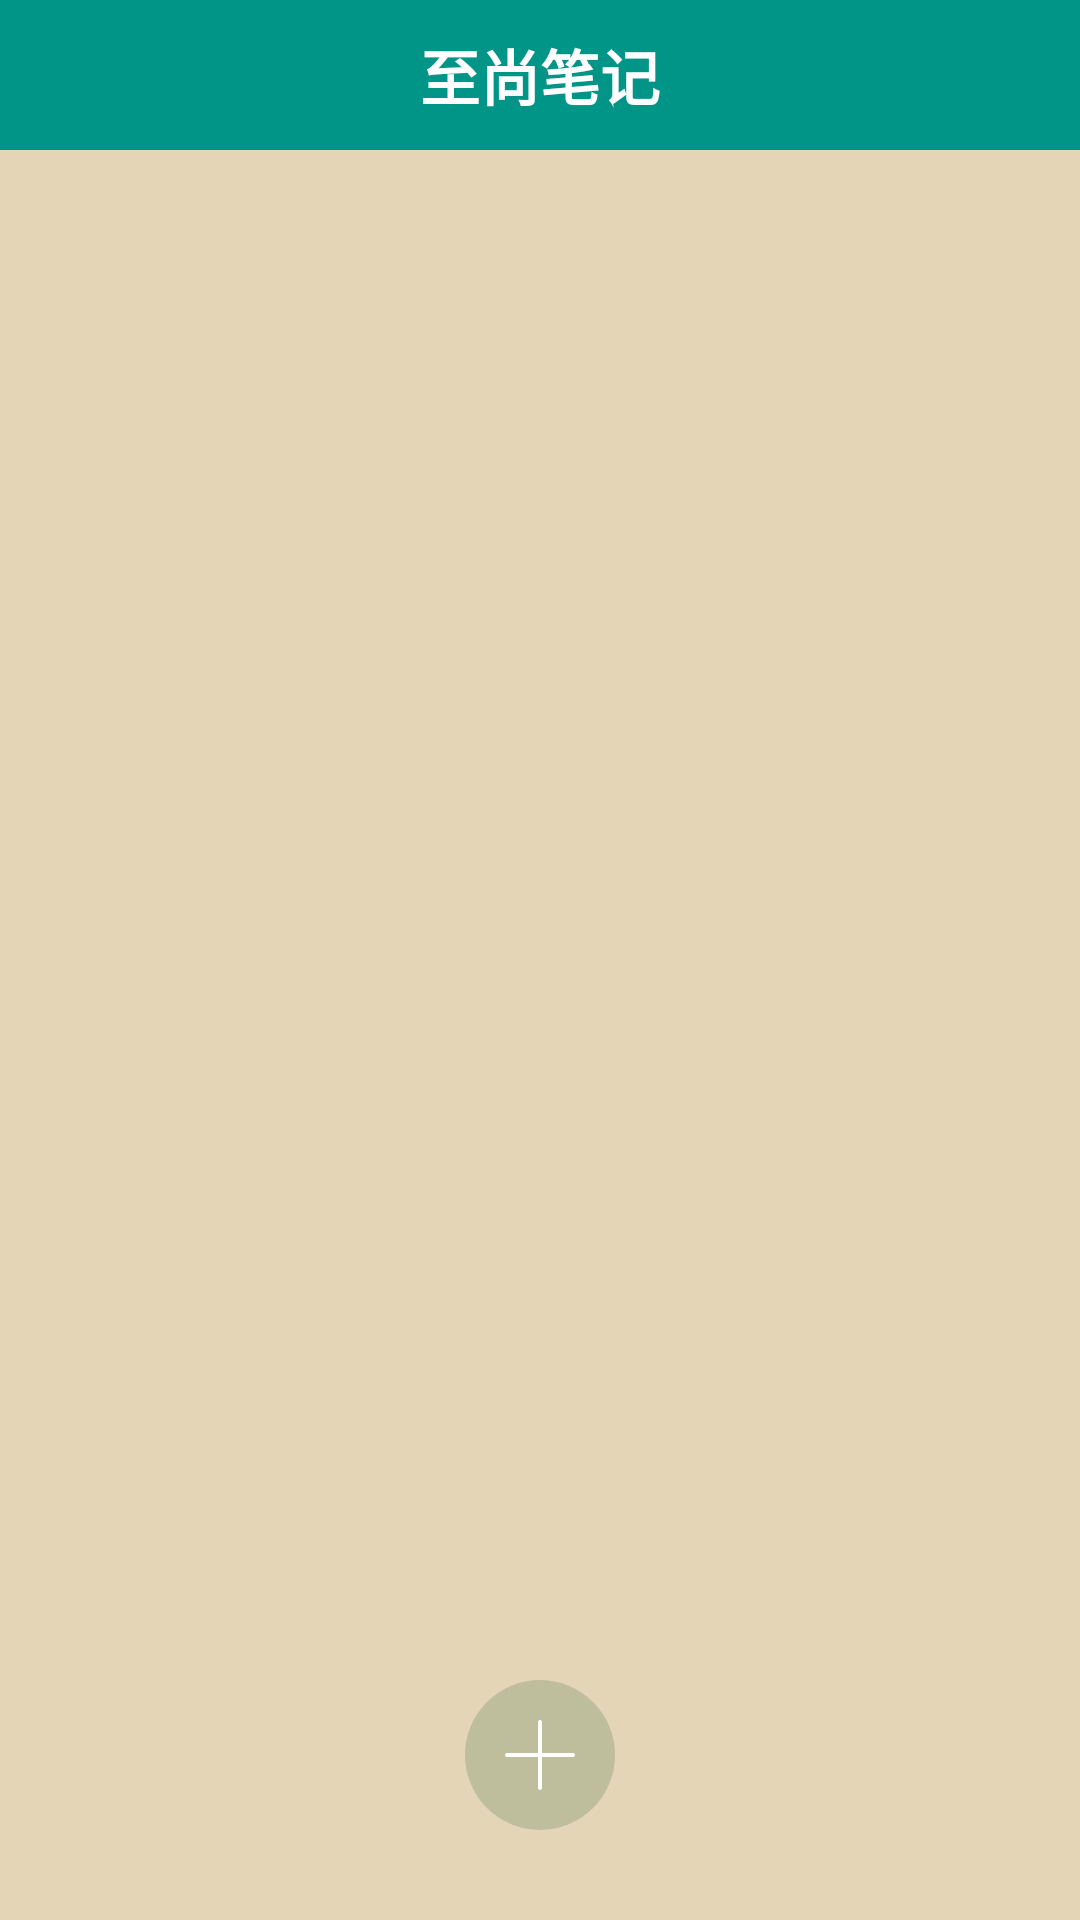

Icons on this 1080w x 1920h Android screen, each with the point to tap as point (x, y):
add: point (540, 1755)
